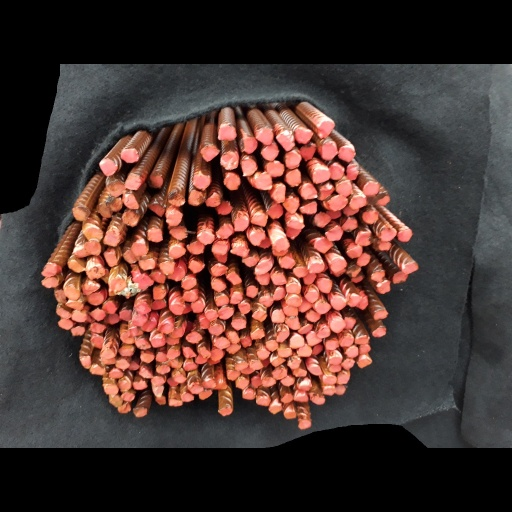dipstick: (130, 266, 154, 290), (85, 257, 106, 279), (166, 260, 188, 281), (276, 129, 296, 151), (282, 148, 301, 170), (297, 180, 317, 200), (97, 158, 118, 177), (221, 172, 241, 191), (103, 246, 122, 266), (336, 144, 357, 162), (259, 143, 280, 161), (219, 151, 240, 169), (253, 171, 272, 190), (109, 277, 128, 296), (293, 126, 313, 144), (329, 257, 347, 277), (165, 206, 183, 226), (106, 177, 124, 197), (270, 183, 287, 204), (81, 278, 102, 295), (239, 136, 258, 154), (316, 120, 335, 138), (319, 141, 338, 159), (298, 142, 316, 161), (283, 194, 301, 213), (120, 209, 139, 227), (200, 144, 220, 161), (256, 126, 273, 146), (240, 156, 257, 176), (317, 182, 334, 202), (361, 180, 381, 197), (302, 283, 319, 303), (270, 236, 291, 252), (83, 225, 104, 241), (327, 194, 349, 209), (38, 262, 63, 275), (67, 255, 85, 273), (334, 179, 353, 196), (123, 173, 142, 190), (192, 173, 211, 190), (313, 211, 332, 228), (196, 229, 215, 246), (217, 124, 237, 140), (168, 225, 188, 241), (85, 289, 105, 305), (119, 148, 140, 163), (265, 161, 286, 176), (328, 163, 346, 180), (315, 236, 333, 253), (215, 222, 233, 239), (231, 239, 248, 257), (288, 331, 305, 349), (311, 167, 330, 183), (285, 169, 301, 188), (233, 213, 249, 232), (167, 191, 186, 207), (147, 201, 166, 217), (145, 227, 164, 243), (103, 231, 122, 247), (156, 259, 175, 275), (353, 231, 373, 246), (132, 300, 152, 315), (39, 275, 62, 288), (247, 229, 264, 246), (315, 277, 332, 294), (122, 192, 140, 208), (131, 240, 149, 256), (254, 256, 272, 272), (286, 276, 302, 294), (299, 200, 318, 215), (325, 225, 344, 240), (167, 244, 186, 259), (72, 205, 91, 220), (210, 262, 229, 277), (347, 195, 367, 209), (188, 190, 205, 206), (205, 191, 221, 208), (216, 200, 233, 216), (346, 242, 363, 258), (187, 240, 205, 255), (149, 269, 167, 284), (329, 296, 347, 311), (346, 162, 360, 181), (138, 257, 157, 271), (106, 196, 122, 212), (251, 212, 268, 227), (375, 279, 392, 294), (341, 217, 358, 232), (211, 239, 228, 254), (96, 203, 113, 218), (84, 240, 101, 255), (54, 304, 71, 319), (196, 312, 211, 329), (210, 277, 227, 292), (217, 305, 234, 320), (329, 318, 346, 333), (270, 270, 287, 285), (188, 259, 206, 273), (181, 288, 199, 302), (140, 317, 158, 331), (277, 255, 295, 269), (314, 300, 332, 314), (360, 210, 379, 223), (284, 293, 303, 306), (71, 246, 93, 257), (64, 285, 80, 300), (117, 376, 132, 392), (181, 275, 197, 290), (152, 285, 168, 300), (190, 297, 205, 313), (306, 331, 322, 346), (327, 350, 343, 365), (271, 286, 287, 301), (146, 175, 163, 189), (379, 228, 396, 242), (157, 320, 174, 334), (180, 344, 197, 358), (356, 354, 373, 368), (268, 202, 281, 220), (402, 261, 420, 274), (392, 271, 410, 284), (185, 331, 203, 344), (207, 323, 225, 336), (286, 218, 305, 230), (123, 249, 138, 264), (238, 333, 253, 348), (398, 229, 414, 243), (285, 226, 301, 240), (150, 334, 166, 348), (226, 271, 242, 285), (285, 316, 301, 330), (251, 308, 267, 322), (168, 302, 185, 315), (213, 293, 230, 306), (213, 336, 230, 349), (269, 398, 282, 415), (309, 393, 326, 406), (306, 363, 323, 376), (323, 337, 340, 350), (341, 204, 359, 216), (242, 255, 260, 267), (356, 252, 371, 266), (52, 288, 67, 302), (132, 312, 146, 327), (237, 300, 252, 314), (235, 375, 249, 390), (294, 389, 309, 403), (344, 344, 359, 358), (271, 308, 285, 323), (298, 297, 312, 312), (65, 299, 84, 310), (371, 270, 387, 283), (72, 309, 88, 322), (89, 308, 105, 321), (118, 309, 134, 322), (168, 325, 184, 338), (255, 394, 271, 407), (272, 367, 288, 380), (296, 377, 312, 390), (339, 334, 355, 347), (305, 309, 321, 322), (347, 292, 360, 308), (375, 195, 392, 207), (376, 241, 393, 253), (132, 378, 149, 390), (150, 298, 167, 310), (230, 318, 247, 330), (229, 290, 243, 304), (198, 345, 212, 359), (283, 405, 297, 419), (103, 382, 118, 395), (103, 299, 116, 314), (138, 366, 153, 379), (119, 331, 134, 344), (226, 368, 241, 381), (210, 347, 225, 360), (226, 331, 241, 344), (250, 327, 265, 340), (297, 344, 312, 357), (343, 315, 356, 330), (340, 357, 355, 370), (107, 394, 123, 406), (128, 325, 144, 337), (135, 338, 151, 350), (346, 264, 362, 276), (57, 318, 74, 329), (118, 345, 135, 356), (260, 376, 277, 387), (293, 266, 310, 277), (373, 308, 390, 319), (91, 335, 105, 348), (250, 375, 263, 389), (265, 339, 279, 352), (245, 284, 258, 298), (303, 271, 317, 284), (310, 261, 325, 273), (90, 321, 105, 333), (120, 390, 135, 402), (117, 401, 132, 413), (172, 371, 187, 383), (204, 309, 219, 321), (270, 355, 285, 367), (287, 357, 302, 369), (298, 322, 313, 334), (258, 294, 273, 306), (255, 272, 270, 284), (371, 325, 386, 337), (325, 208, 341, 219), (99, 347, 115, 358), (150, 375, 166, 386), (155, 364, 171, 375), (355, 334, 371, 345), (188, 384, 205, 394), (89, 362, 102, 375), (151, 384, 164, 397), (317, 325, 330, 338), (116, 358, 130, 370), (257, 348, 271, 360), (241, 388, 255, 400), (275, 331, 289, 343), (336, 373, 350, 385), (70, 325, 85, 336), (198, 389, 213, 400), (139, 352, 154, 363), (249, 359, 264, 370), (283, 305, 298, 316), (358, 296, 369, 311), (105, 315, 123, 324), (155, 351, 168, 363), (79, 355, 90, 369), (202, 378, 216, 389), (298, 419, 312, 430), (291, 368, 308, 377), (108, 369, 123, 379), (132, 407, 147, 417), (180, 392, 195, 402), (218, 406, 233, 416), (277, 347, 292, 357), (280, 376, 295, 386), (322, 375, 337, 385), (321, 386, 336, 396), (183, 362, 199, 371), (311, 344, 323, 356), (166, 348, 179, 359), (213, 253, 227, 263), (194, 354, 208, 364), (165, 336, 180, 345), (281, 392, 293, 403), (335, 384, 346, 396), (169, 398, 183, 407), (235, 362, 249, 371), (167, 376, 179, 386), (216, 380, 228, 390), (359, 344, 371, 354), (129, 360, 140, 370), (155, 395, 166, 405), (206, 359, 221, 366), (327, 365, 342, 372), (350, 276, 363, 283)
